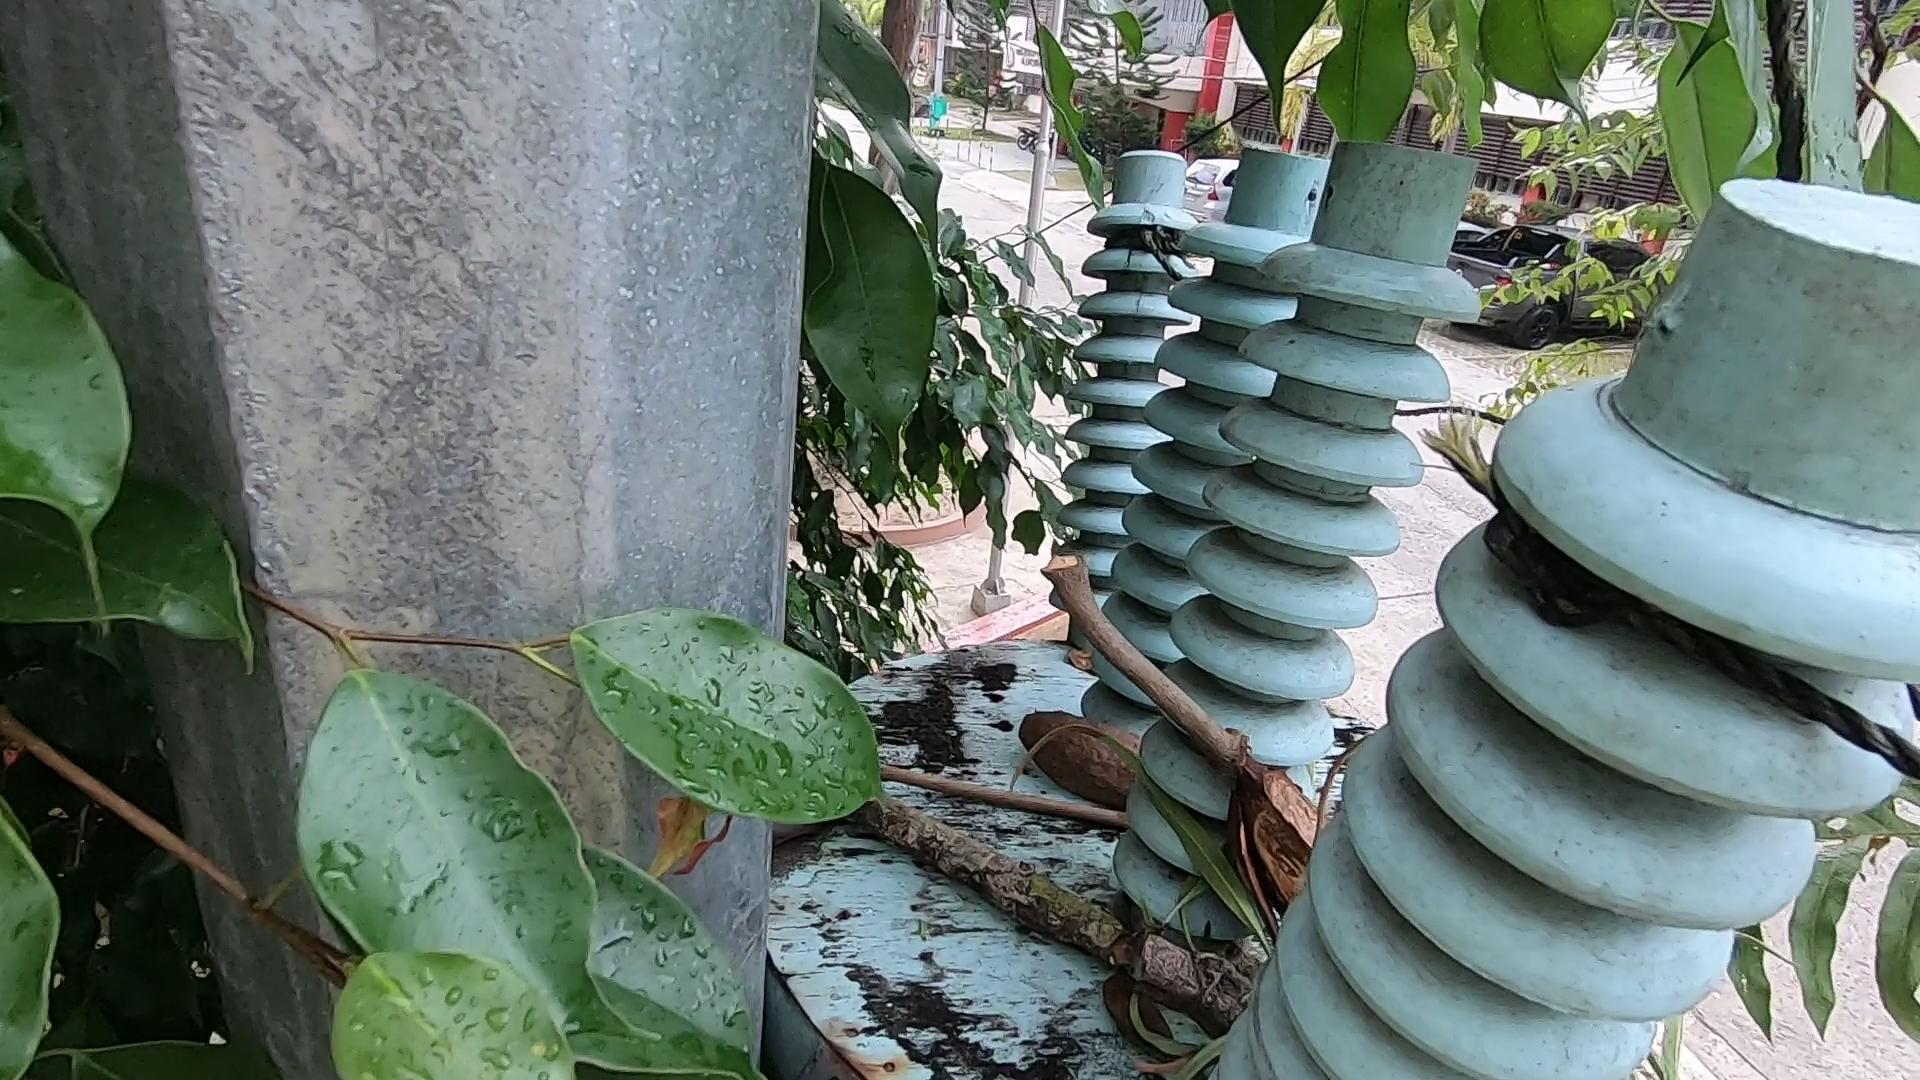branch with leaves: (845, 753, 1240, 1033)
leaf: (1058, 624, 1108, 702)
mahogany fruit: (1021, 674, 1178, 865), (1218, 746, 1335, 861)
tree branch: (1007, 520, 1327, 836), (824, 723, 1149, 833)
